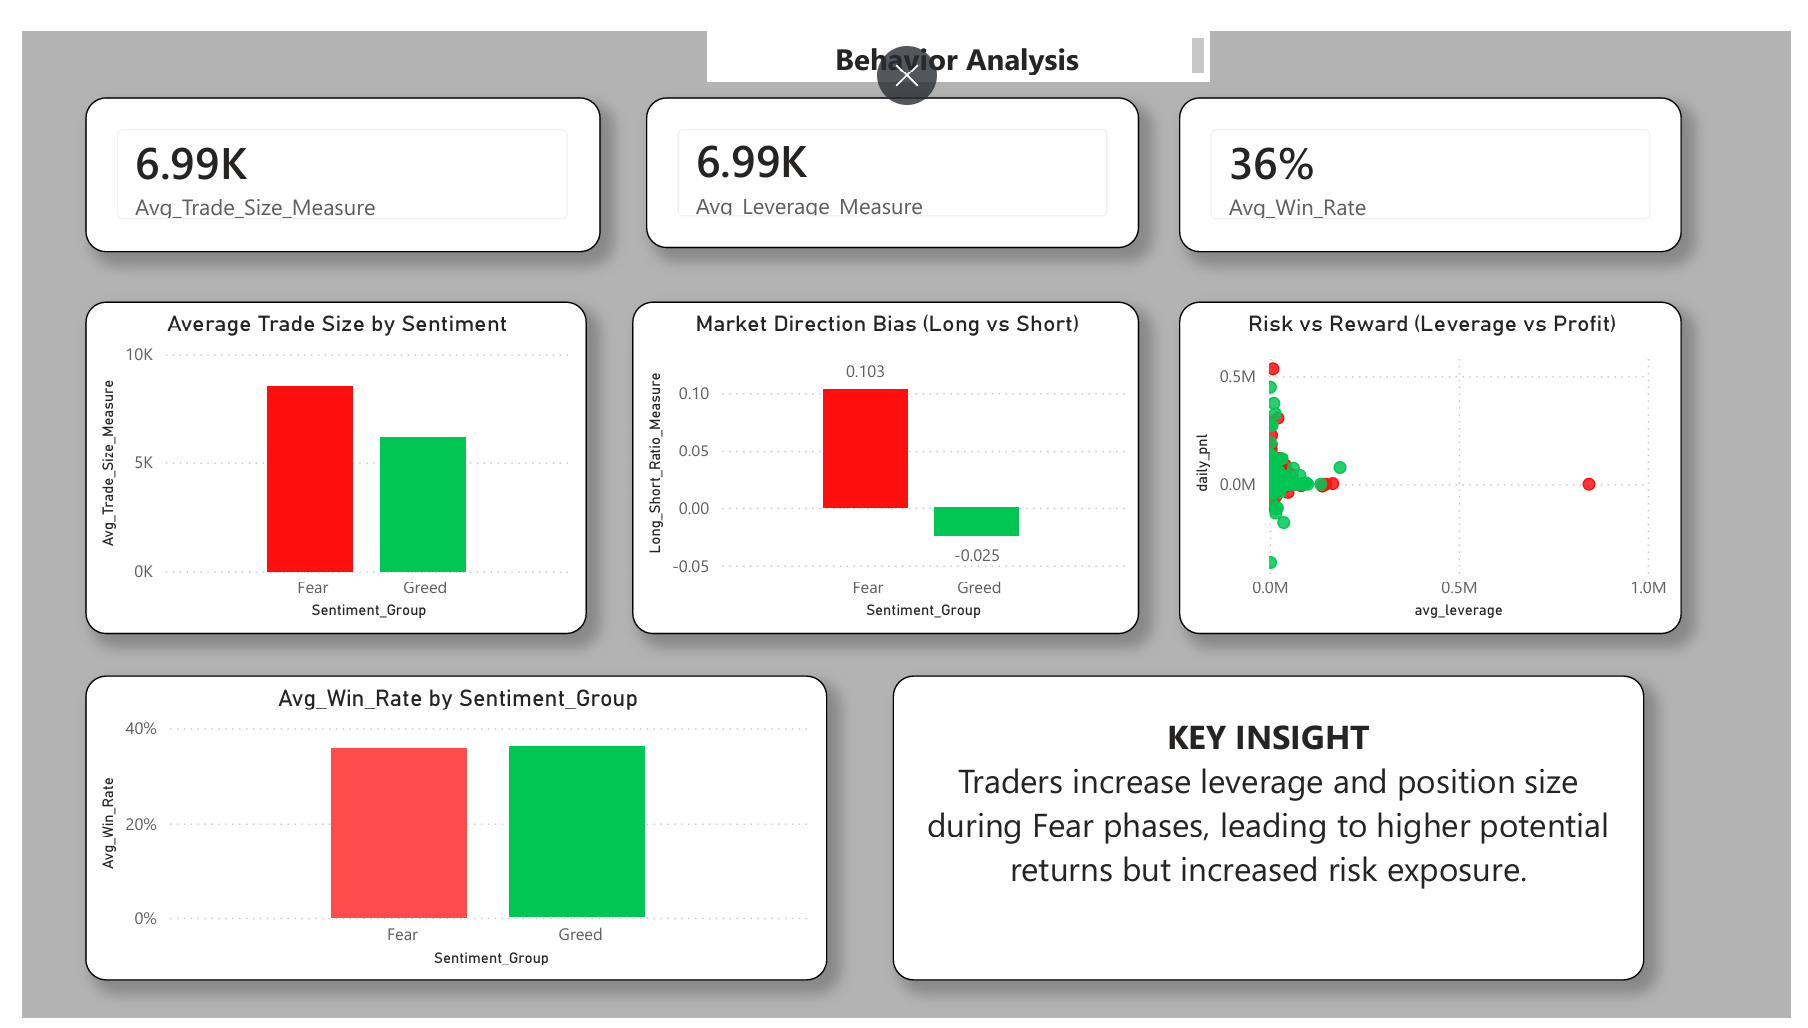

This screenshot's page, from the dashboard's own definition file:
{"tool":"powerbi","page":{"name":"Behavior Analysis","canvas":[1280,720],"ordinal":1},"visuals":[{"type":"cardVisual","fields":{"Data":["fact_trades.Avg_Trade_Size_Measure"]},"box":[45.7,48.6,372.9,112.9],"z":0},{"type":"cardVisual","fields":{"Data":["fact_trades.Avg_Leverage_Measure"]},"box":[451.4,48.6,357.1,110],"z":1000},{"type":"cardVisual","fields":{"Data":["fact_trades.Avg_Win_Rate"]},"box":[837.1,48.6,364.3,112.9],"z":2000},{"type":"clusteredColumnChart","title":"Average Trade Size by Sentiment","fields":{"Y":["fact_trades.Avg_Trade_Size_Measure"],"Category":["fact_trades.Sentiment_Group"]},"box":[45.7,197.1,362.9,242.9],"z":3000},{"type":"columnChart","title":"Market Direction Bias (Long vs Short)","fields":{"Y":["fact_trades.Long_Short_Ratio_Measure"],"Category":["fact_trades.Sentiment_Group"]},"box":[441.4,197.1,367.1,242.9],"z":4000},{"type":"scatterChart","title":"Risk vs Reward (Leverage vs Profit)","fields":{"Y":["fact_trades.daily_pnl"],"X":["fact_trades.avg_leverage"],"Series":["fact_trades.Sentiment_Group"]},"box":[837.1,197.1,364.3,242.9],"z":5000},{"type":"textbox","box":[630,470,544.3,222.9],"z":6000},{"type":"clusteredColumnChart","fields":{"Category":["fact_trades.Sentiment_Group"],"Y":["fact_trades.Avg_Win_Rate"]},"box":[45.7,470,537.1,222.9],"z":7000},{"type":"textbox","box":[495.7,0,364.3,37.1],"z":8000}]}

Visuals, with their boxes in screenshot pixels (x1, y1, x2, y2), scaled from the page's 1280x720 canvas onto the 1808x1028 screenshot:
cardVisual - fact_trades.Avg_Trade_Size_Measure: Rect(65, 69, 591, 231)
cardVisual - fact_trades.Avg_Leverage_Measure: Rect(638, 69, 1142, 226)
cardVisual - fact_trades.Avg_Win_Rate: Rect(1182, 69, 1697, 231)
"Average Trade Size by Sentiment" clusteredColumnChart: Rect(65, 281, 577, 628)
"Market Direction Bias (Long vs Short)" columnChart: Rect(623, 281, 1142, 628)
"Risk vs Reward (Leverage vs Profit)" scatterChart: Rect(1182, 281, 1697, 628)
textbox: Rect(890, 671, 1659, 989)
clusteredColumnChart - fact_trades.Sentiment_Group x fact_trades.Avg_Win_Rate: Rect(65, 671, 823, 989)
textbox: Rect(700, 0, 1215, 53)
